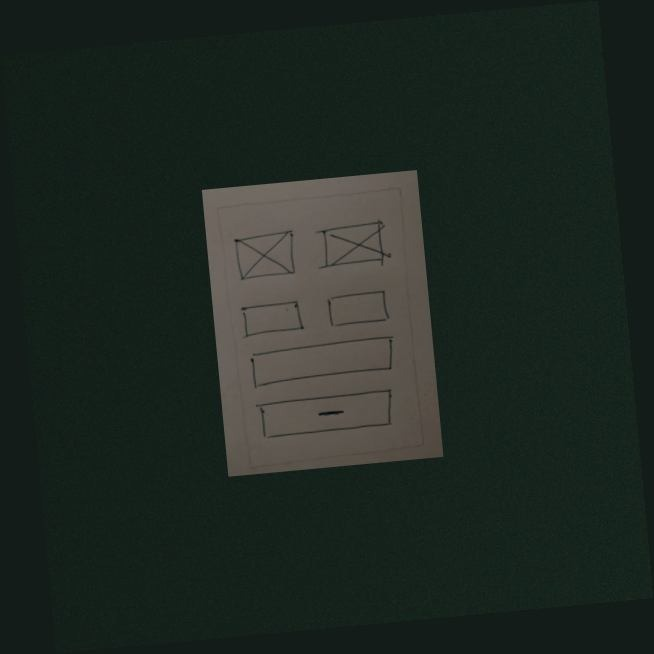button: (254, 388, 398, 441)
image: (313, 217, 396, 276), (231, 227, 299, 285)
text_input: (245, 334, 404, 391), (321, 287, 395, 331), (237, 297, 307, 341)
